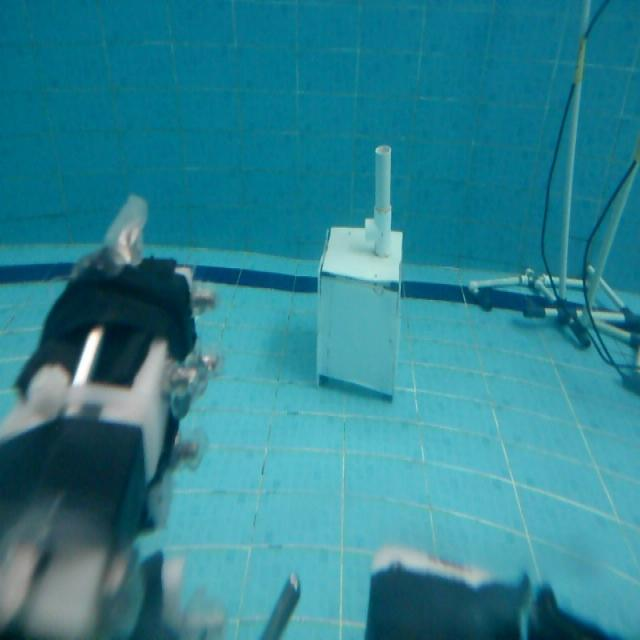Cube: (314, 221, 404, 399)
